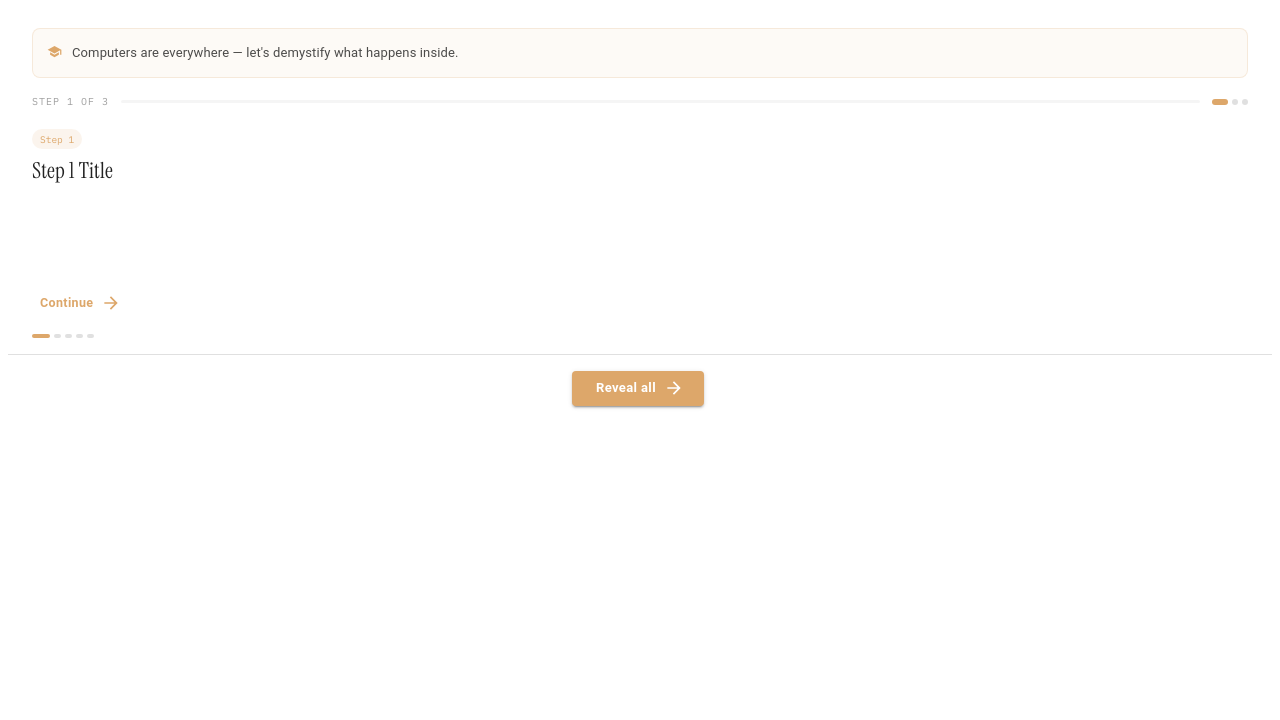
UI/UX Expert › Quiz phase appearance › renders the quiz question text
Click the button "Reveal all": (638,388) [572,371,704,406]
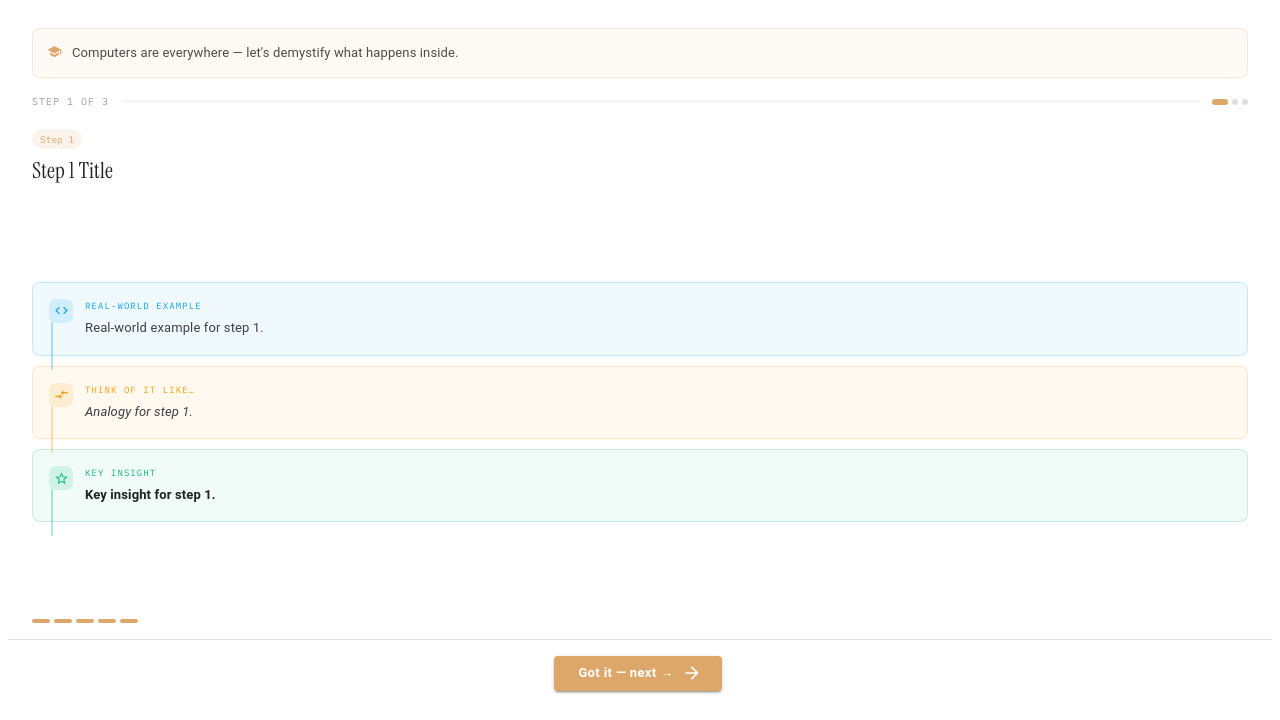
Click the button "Got it — next →": (638,673) [554,656,722,691]
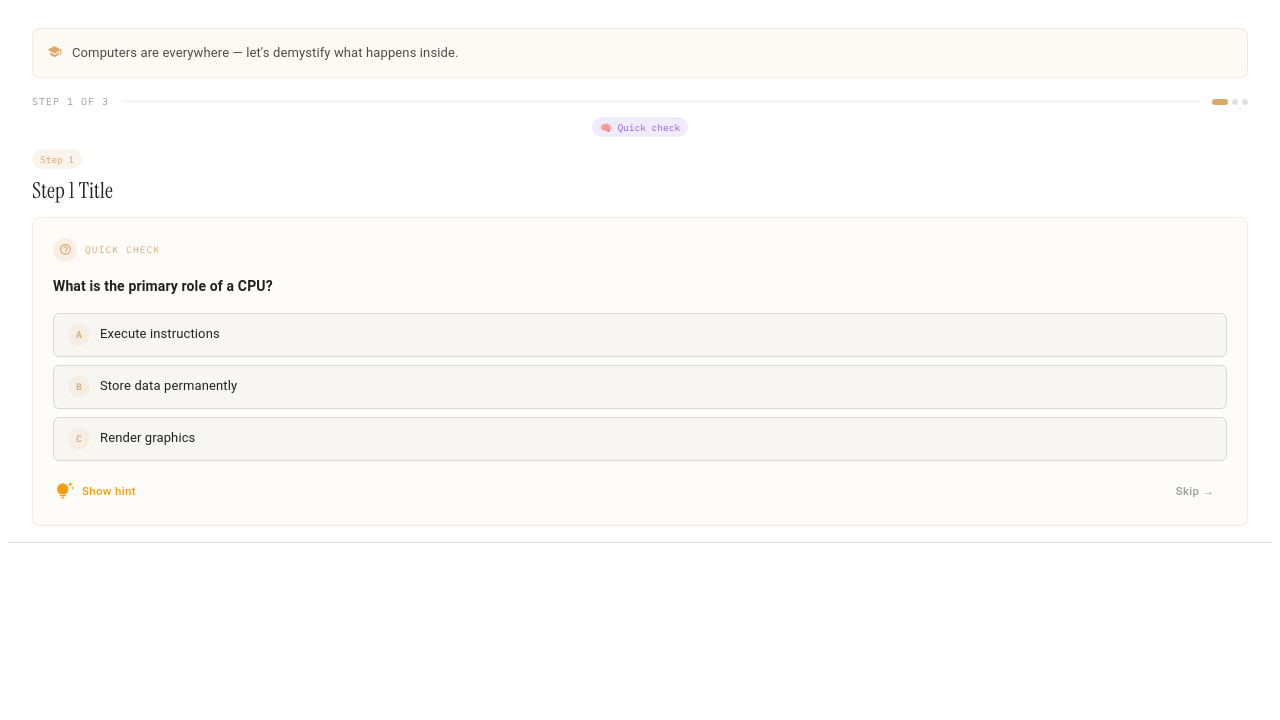
Now the text "What is the primary role of a CPU?" is shown, box [53,278,273,294]
